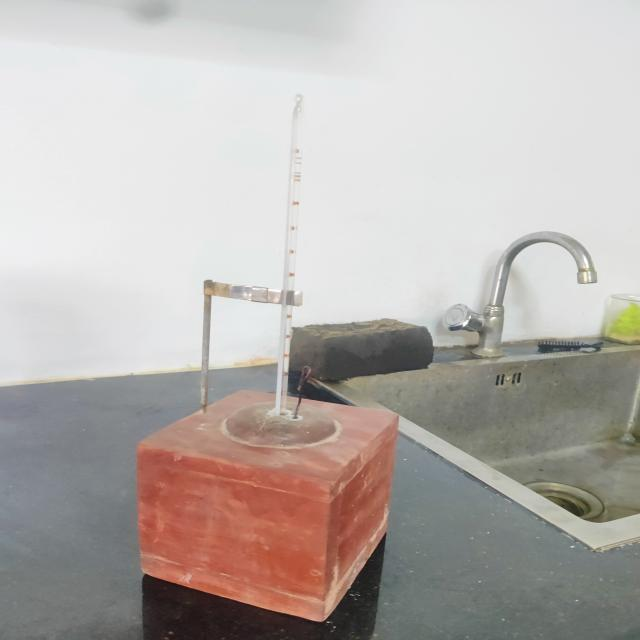Calorimeter: (104, 86, 420, 628)
